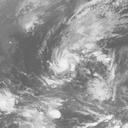cyclone: (49, 46, 79, 76)
